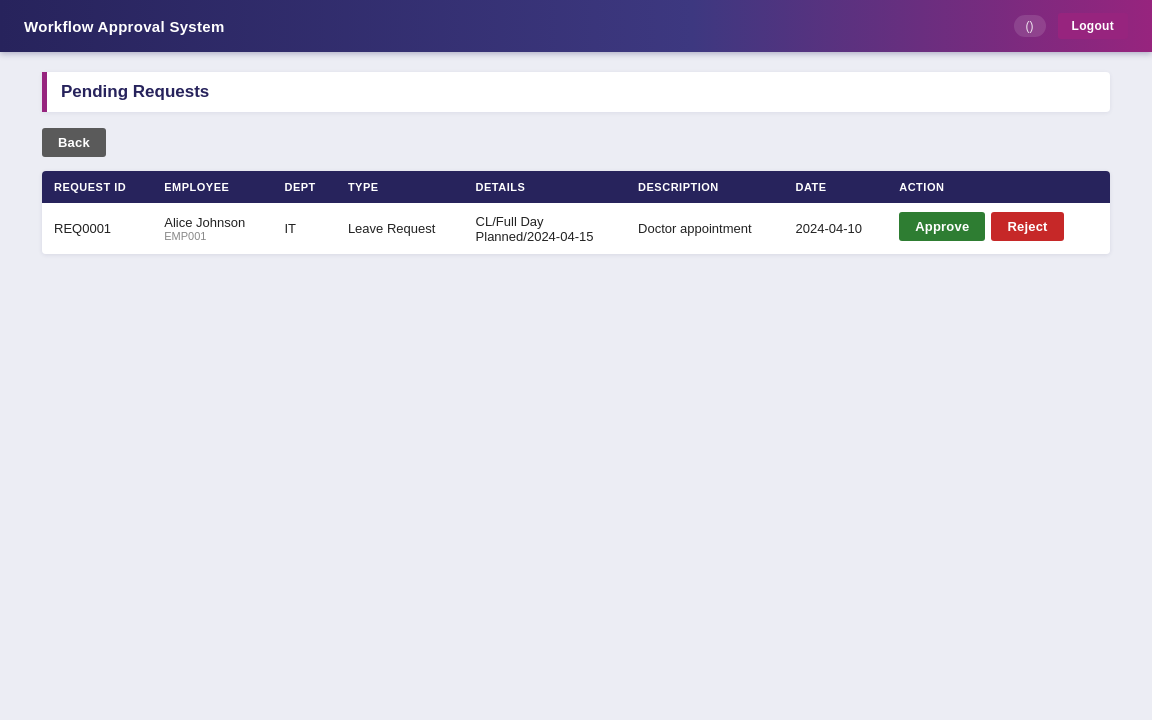
PendingRequests › shows remarks required error on empty submit
Expected: the text "Alice Johnson" is shown, left=164, top=215, right=245, bottom=230
Click the button "Approve" at (942, 226), box left=899, top=212, right=985, bottom=241
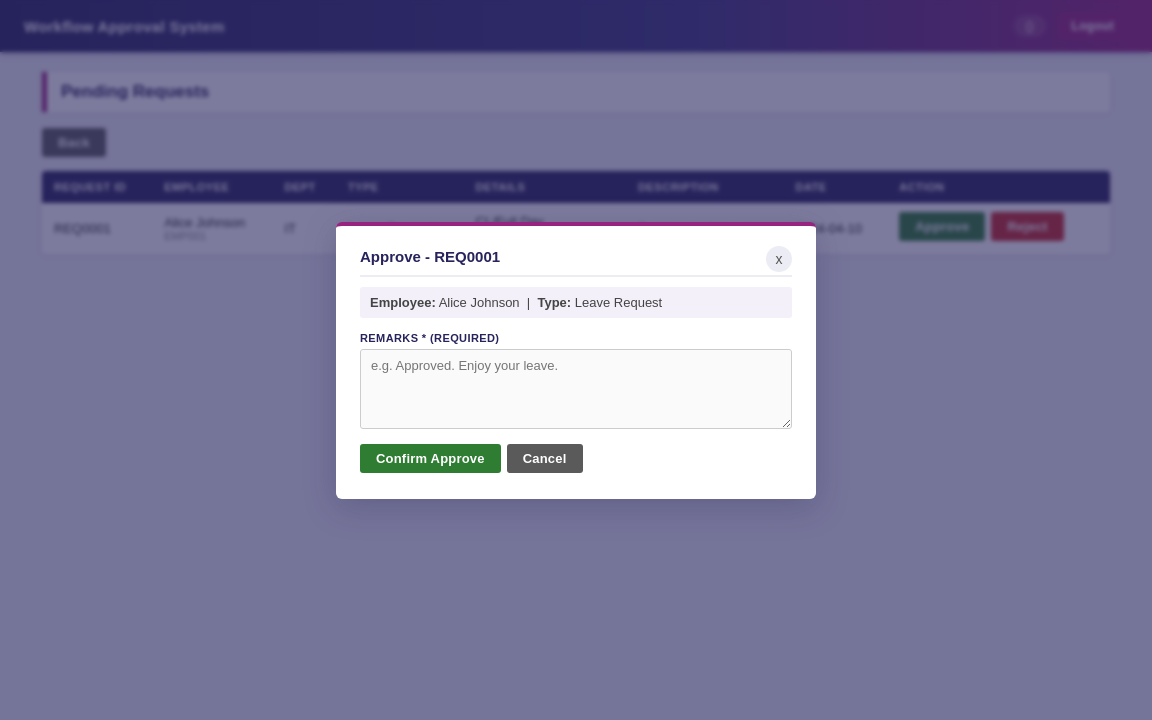
Click the button "Confirm Approve" at (430, 458), box left=360, top=444, right=501, bottom=472
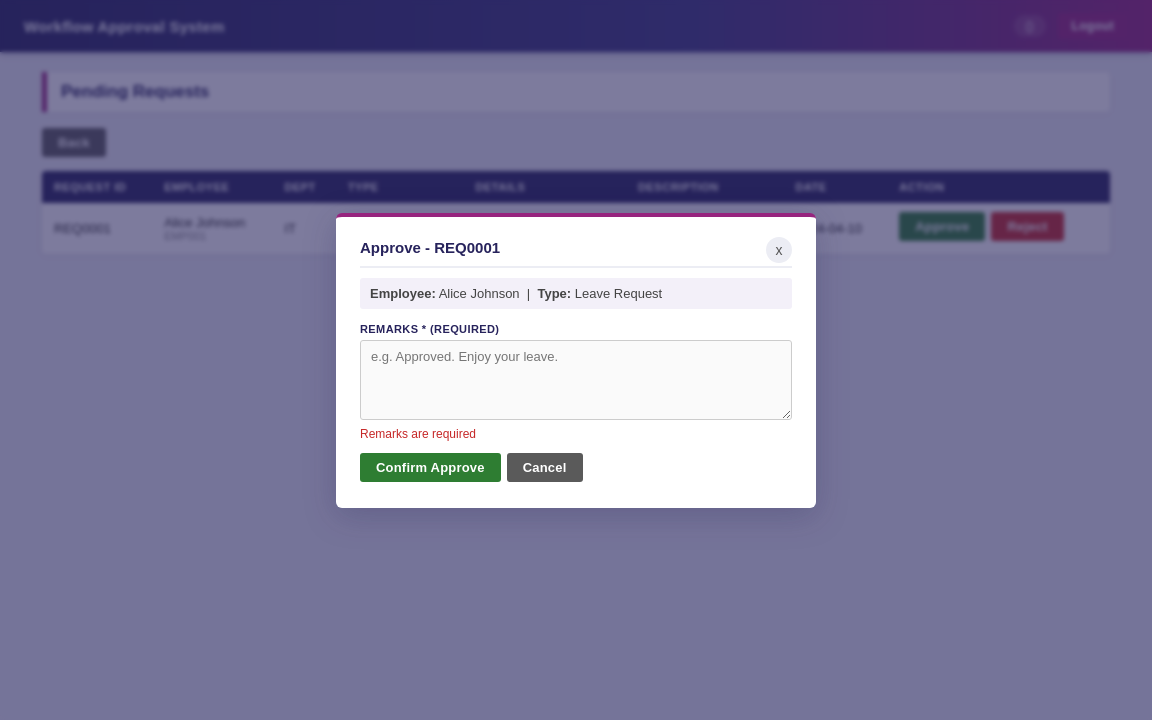
Now the text "Remarks are required" is shown, box left=360, top=426, right=476, bottom=440
